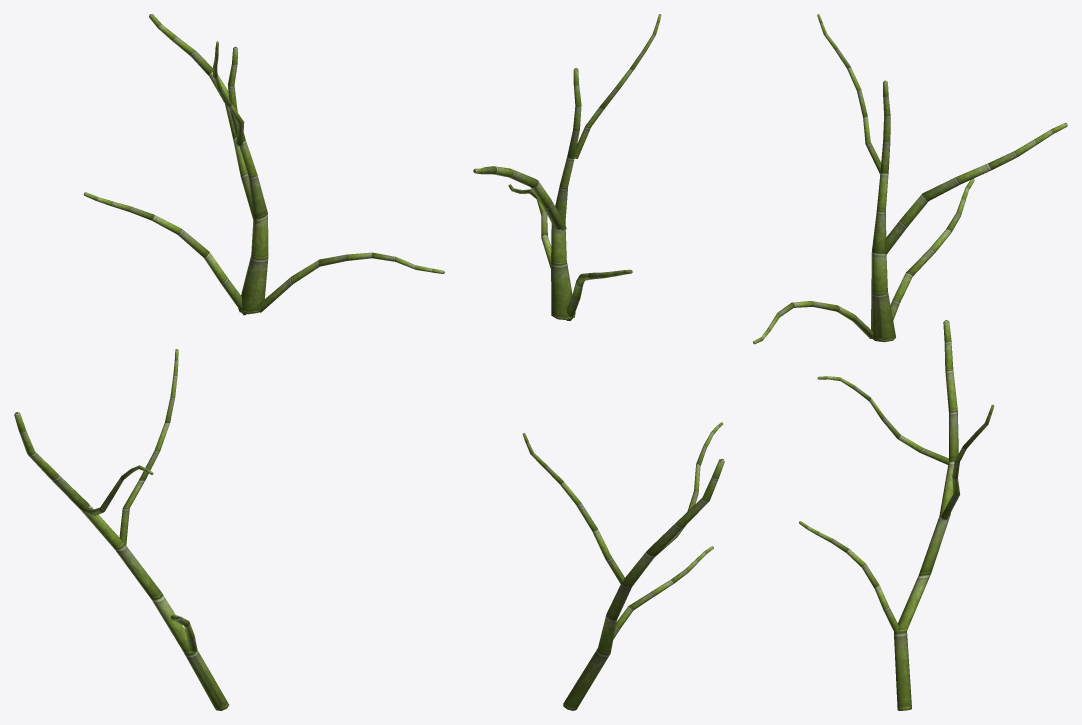
File: BambooSet_part_24.fbx
3 renders of one model, left to right at view 1: azimuth 30°, elevation 25°; view 2: azimuth 150°, elevation 25°; view 3: azimuth 270°, elevation 25°, orthographic. The views are drawn at different scales.
Visible parts, largest first — view 1: Object_47.001; view 2: Object_47.001; view 3: Object_47.001.
Part boxes in pixels (left/top/right/bottom): Object_47.001: left=14, top=14, right=444, bottom=710; Object_47.001: left=473, top=14, right=724, bottom=710; Object_47.001: left=753, top=14, right=1067, bottom=710.
Bounding box in the file's own units: 702 × 1452 × 614.
